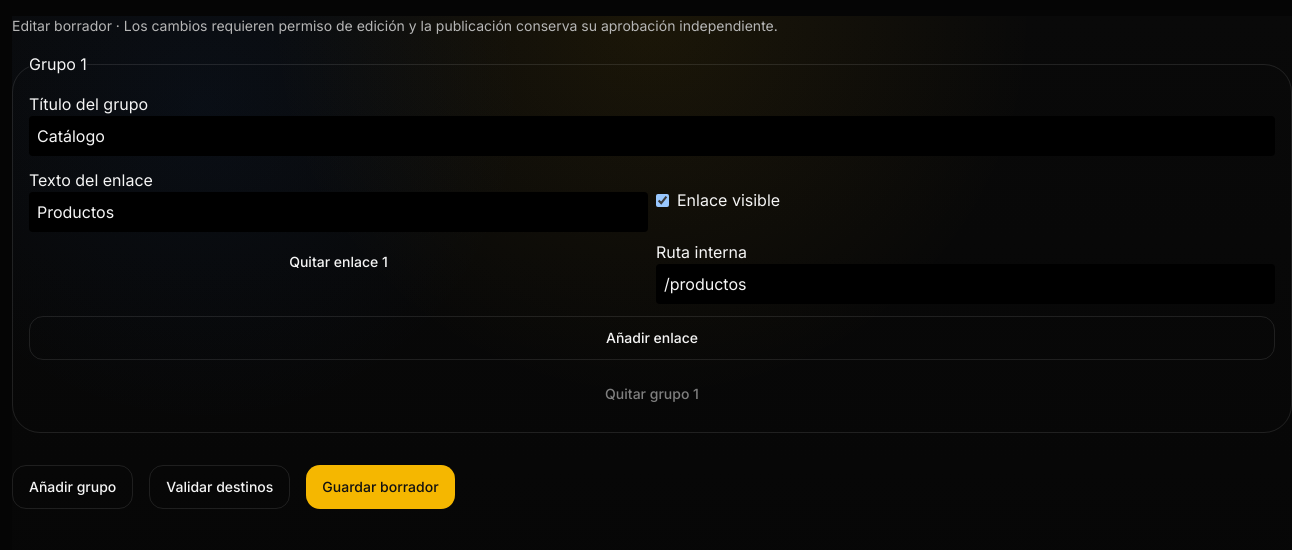
Test: validates introduced route on blur and displays concrete rejected destination
Replace the text in the field labelled "Ruta interna" with "/productos/missing": (966, 284) x1=656 y1=264 x2=1275 y2=304
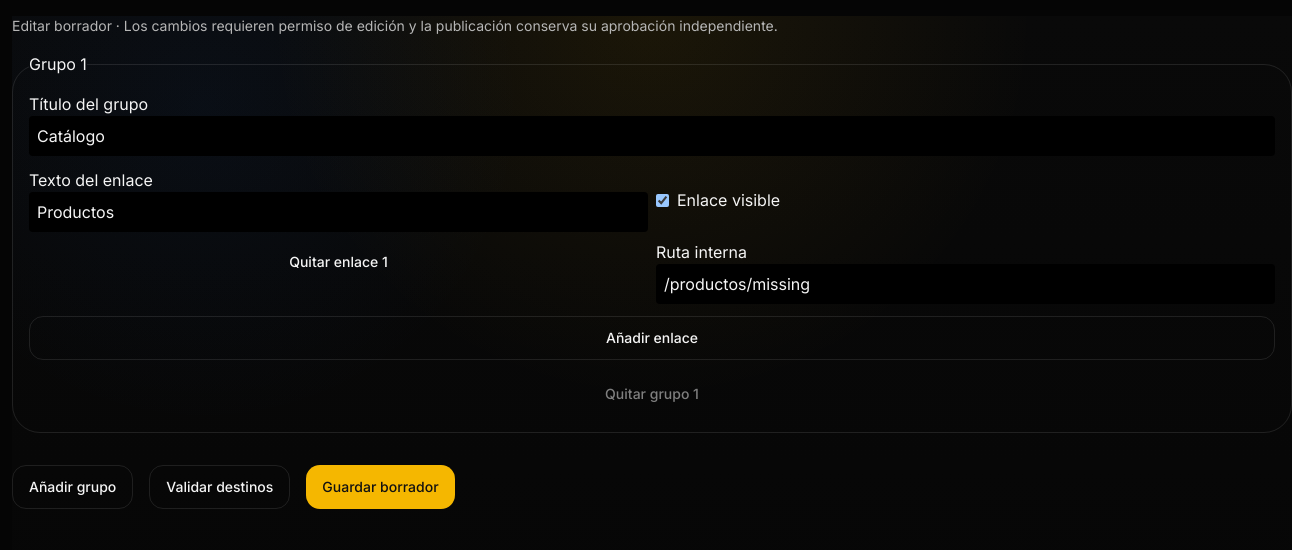
Leave the field labelled "Ruta interna", box x1=656 y1=264 x2=1275 y2=304
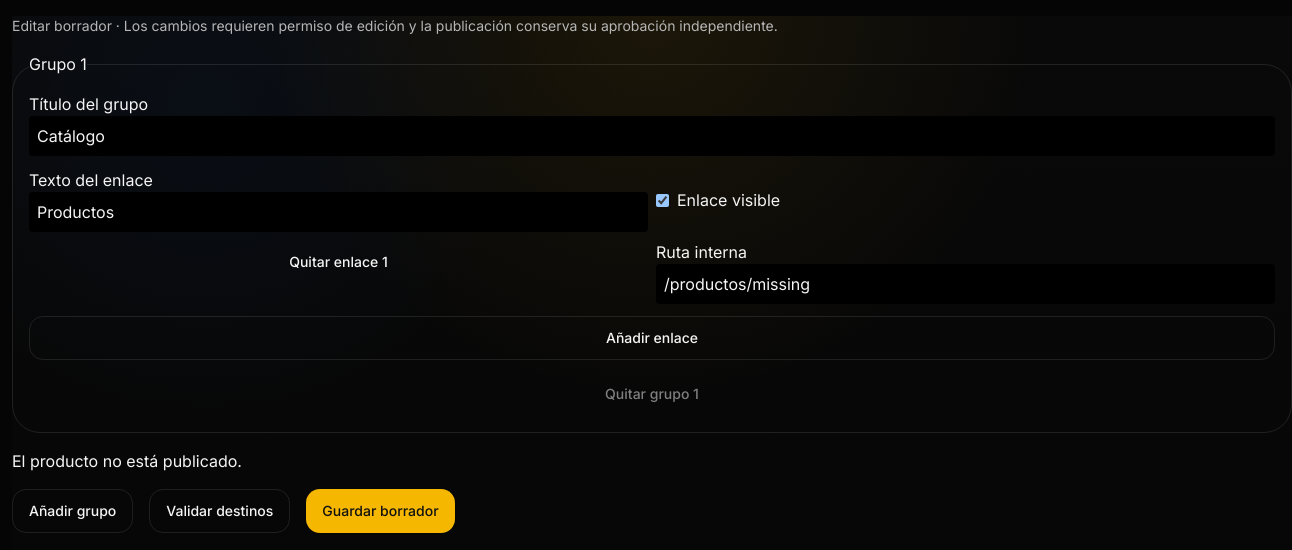
Check: the message reads "El producto no está publicado.", box x1=12 y1=451 x2=242 y2=471
